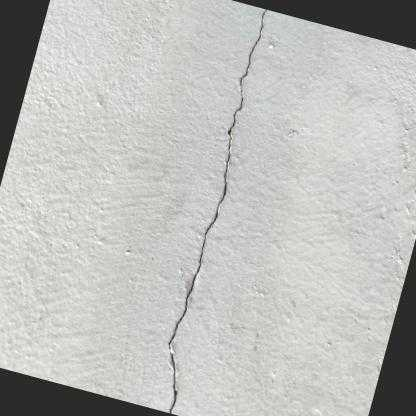crack: (166, 7, 267, 413)
